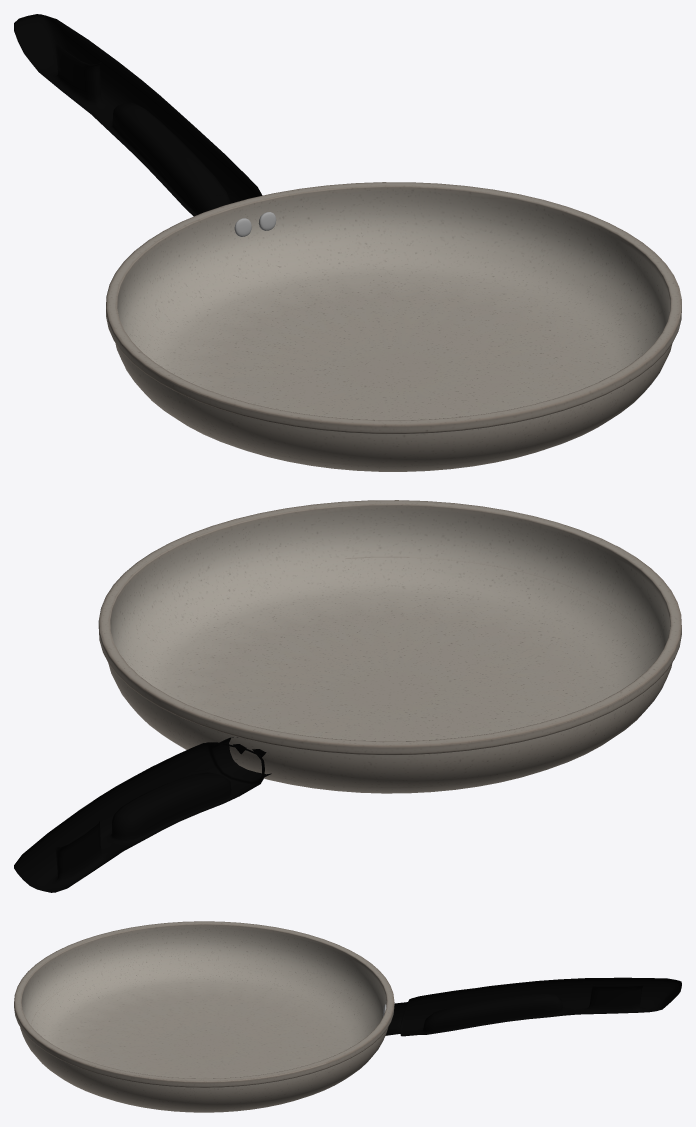
Rendered from porcelain_frying_pan.glb.
3 renders of one model, top to bottom at view 1: azimuth 30°, elevation 25°; view 2: azimuth 150°, elevation 25°; view 3: azimuth 270°, elevation 25°, orthographic. The views are drawn at different scales.
Visible parts, largest first — view 1: Cylinder, Cylinder.001; view 2: Cylinder, Cylinder.001; view 3: Cylinder, Cylinder.001.
Boxes of the visible parts, x1=… form: Cylinder: x1=106, y1=182, x2=681, y2=471; Cylinder.001: x1=14, y1=14, x2=262, y2=216; Cylinder: x1=98, y1=500, x2=681, y2=793; Cylinder.001: x1=14, y1=737, x2=271, y2=892; Cylinder: x1=14, y1=921, x2=394, y2=1112; Cylinder.001: x1=385, y1=977, x2=681, y2=1036.
Size of the model in its own units: 2.21 by 0.4284 by 3.88.
4 materials, 2 textured.
